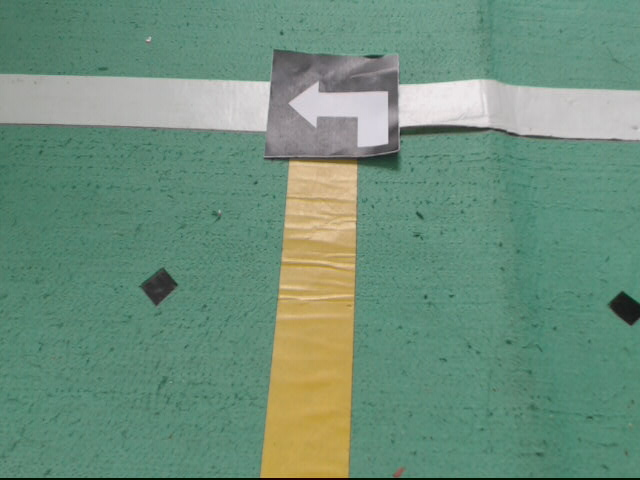left: (262, 48, 407, 161)
